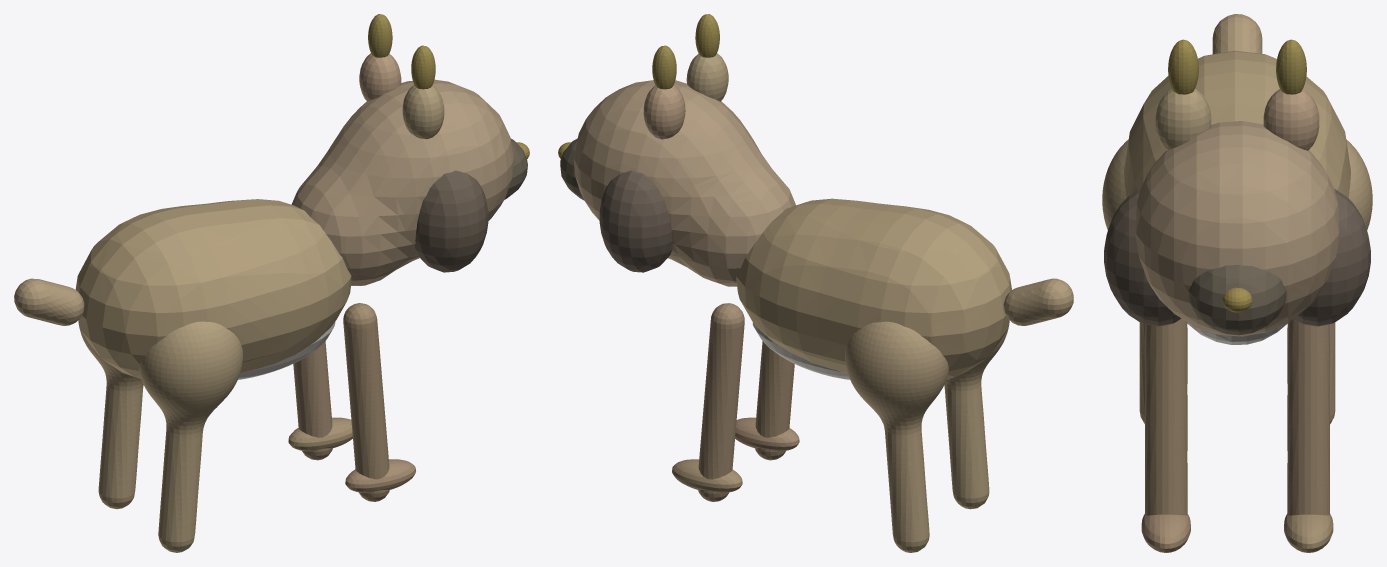
The model's file is lynx.glb.
3 renders of one model, left to right at view 1: azimuth 30°, elevation 25°; view 2: azimuth 150°, elevation 25°; view 3: azimuth 270°, elevation 25°, orthographic. The views are drawn at different scales.
Parts seen in each view (by area): view 1: body|torso, head|skull, legRR|thigh, legFR|leg, head|ruff1, legRL|thigh, legFL|leg, tail|stub, earR|ear, earL|ear, legFR|pad, legFL|pad (+4 smaller); view 2: body|torso, head|skull, legRL|thigh, legFL|leg, head|ruff-1, legRR|thigh, legFR|leg, tail|stub, earL|ear, earR|ear, legFL|pad, legFR|pad (+4 smaller); view 3: head|skull, body|torso, legFR|leg, legFL|leg, head|muzzle, head|ruff1, head|ruff-1, earL|ear, earR|ear, legRL|thigh, legRR|thigh, tail|stub (+6 smaller).
Boxes of the visible parts, x1=… form: body|torso: x1=75, y1=199, x2=351, y2=378; head|skull: x1=291, y1=79, x2=513, y2=285; legRR|thigh: x1=139, y1=321, x2=242, y2=552; legFR|leg: x1=343, y1=303, x2=389, y2=501; head|ruff1: x1=415, y1=170, x2=488, y2=272; legRL|thigh: x1=78, y1=320, x2=143, y2=509; legFL|leg: x1=293, y1=341, x2=332, y2=460; tail|stub: x1=14, y1=278, x2=84, y2=325; earR|ear: x1=402, y1=85, x2=444, y2=139; earL|ear: x1=359, y1=53, x2=401, y2=101; legFR|pad: x1=345, y1=459, x2=415, y2=492; legFL|pad: x1=288, y1=417, x2=352, y2=451; body|torso: x1=736, y1=198, x2=1011, y2=379; head|skull: x1=574, y1=80, x2=795, y2=286; legRL|thigh: x1=845, y1=321, x2=948, y2=552; legFL|leg: x1=698, y1=303, x2=744, y2=501; head|ruff-1: x1=599, y1=170, x2=672, y2=272; legRR|thigh: x1=944, y1=321, x2=1009, y2=509; legFR|leg: x1=755, y1=341, x2=794, y2=460; tail|stub: x1=1003, y1=278, x2=1073, y2=325; earL|ear: x1=643, y1=85, x2=685, y2=139; earR|ear: x1=686, y1=53, x2=728, y2=101; legFL|pad: x1=672, y1=459, x2=742, y2=492; legFR|pad: x1=735, y1=417, x2=799, y2=451; head|skull: x1=1135, y1=121, x2=1339, y2=336; body|torso: x1=1124, y1=50, x2=1350, y2=197; legFR|leg: x1=1145, y1=318, x2=1187, y2=515; legFL|leg: x1=1287, y1=318, x2=1329, y2=515; head|muzzle: x1=1188, y1=265, x2=1286, y2=335; head|ruff1: x1=1104, y1=189, x2=1180, y2=326; head|ruff-1: x1=1294, y1=189, x2=1370, y2=326; earL|ear: x1=1263, y1=89, x2=1319, y2=150; earR|ear: x1=1155, y1=89, x2=1211, y2=150; legRL|thigh: x1=1330, y1=139, x2=1372, y2=423; legRR|thigh: x1=1102, y1=139, x2=1144, y2=423; tail|stub: x1=1212, y1=14, x2=1262, y2=54.
Bounding box in the file's own units: 0.747 × 0.6098 × 0.2734.
